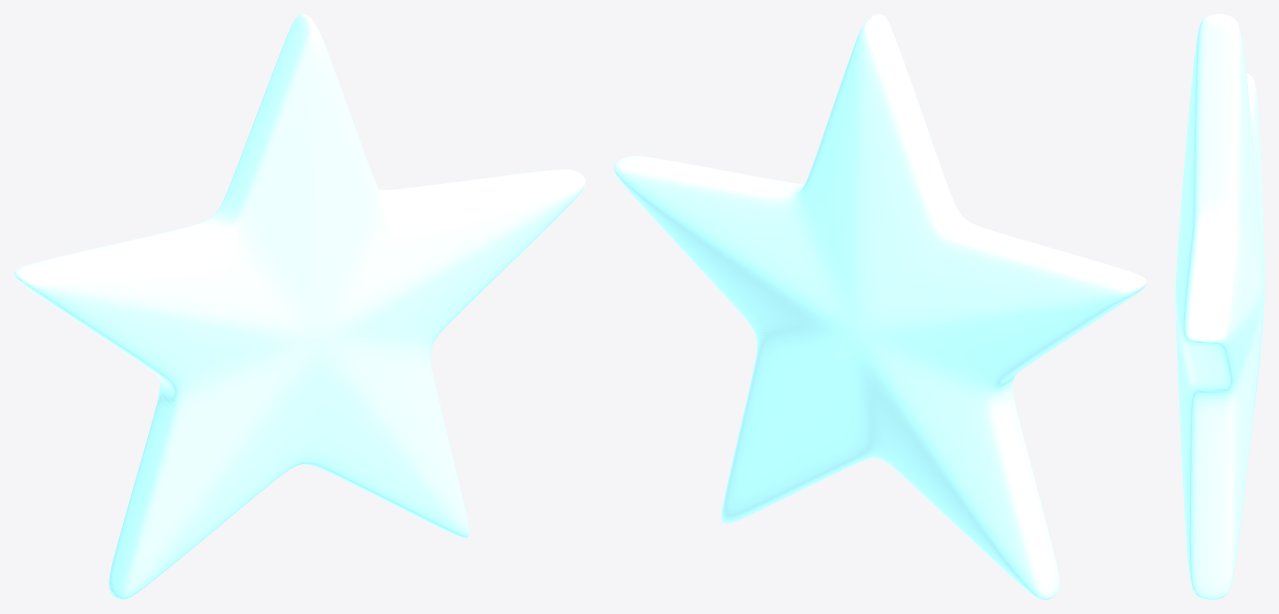
The model's file is star.fbx.
3 views of the same model, side by side, from view 1: azimuth 30°, elevation 25°; view 2: azimuth 150°, elevation 25°; view 3: azimuth 270°, elevation 25° (orthographic). The views are drawn at different scales.
Parts seen in each view (by area): view 1: Circle; view 2: Circle; view 3: Circle.
Boxes of the visible parts, left/top/right/bottom form: Circle: left=14, top=14, right=585, bottom=599; Circle: left=614, top=14, right=1146, bottom=599; Circle: left=1175, top=14, right=1264, bottom=599.
Size of the model in its own units: 181 by 175 by 27.39.
